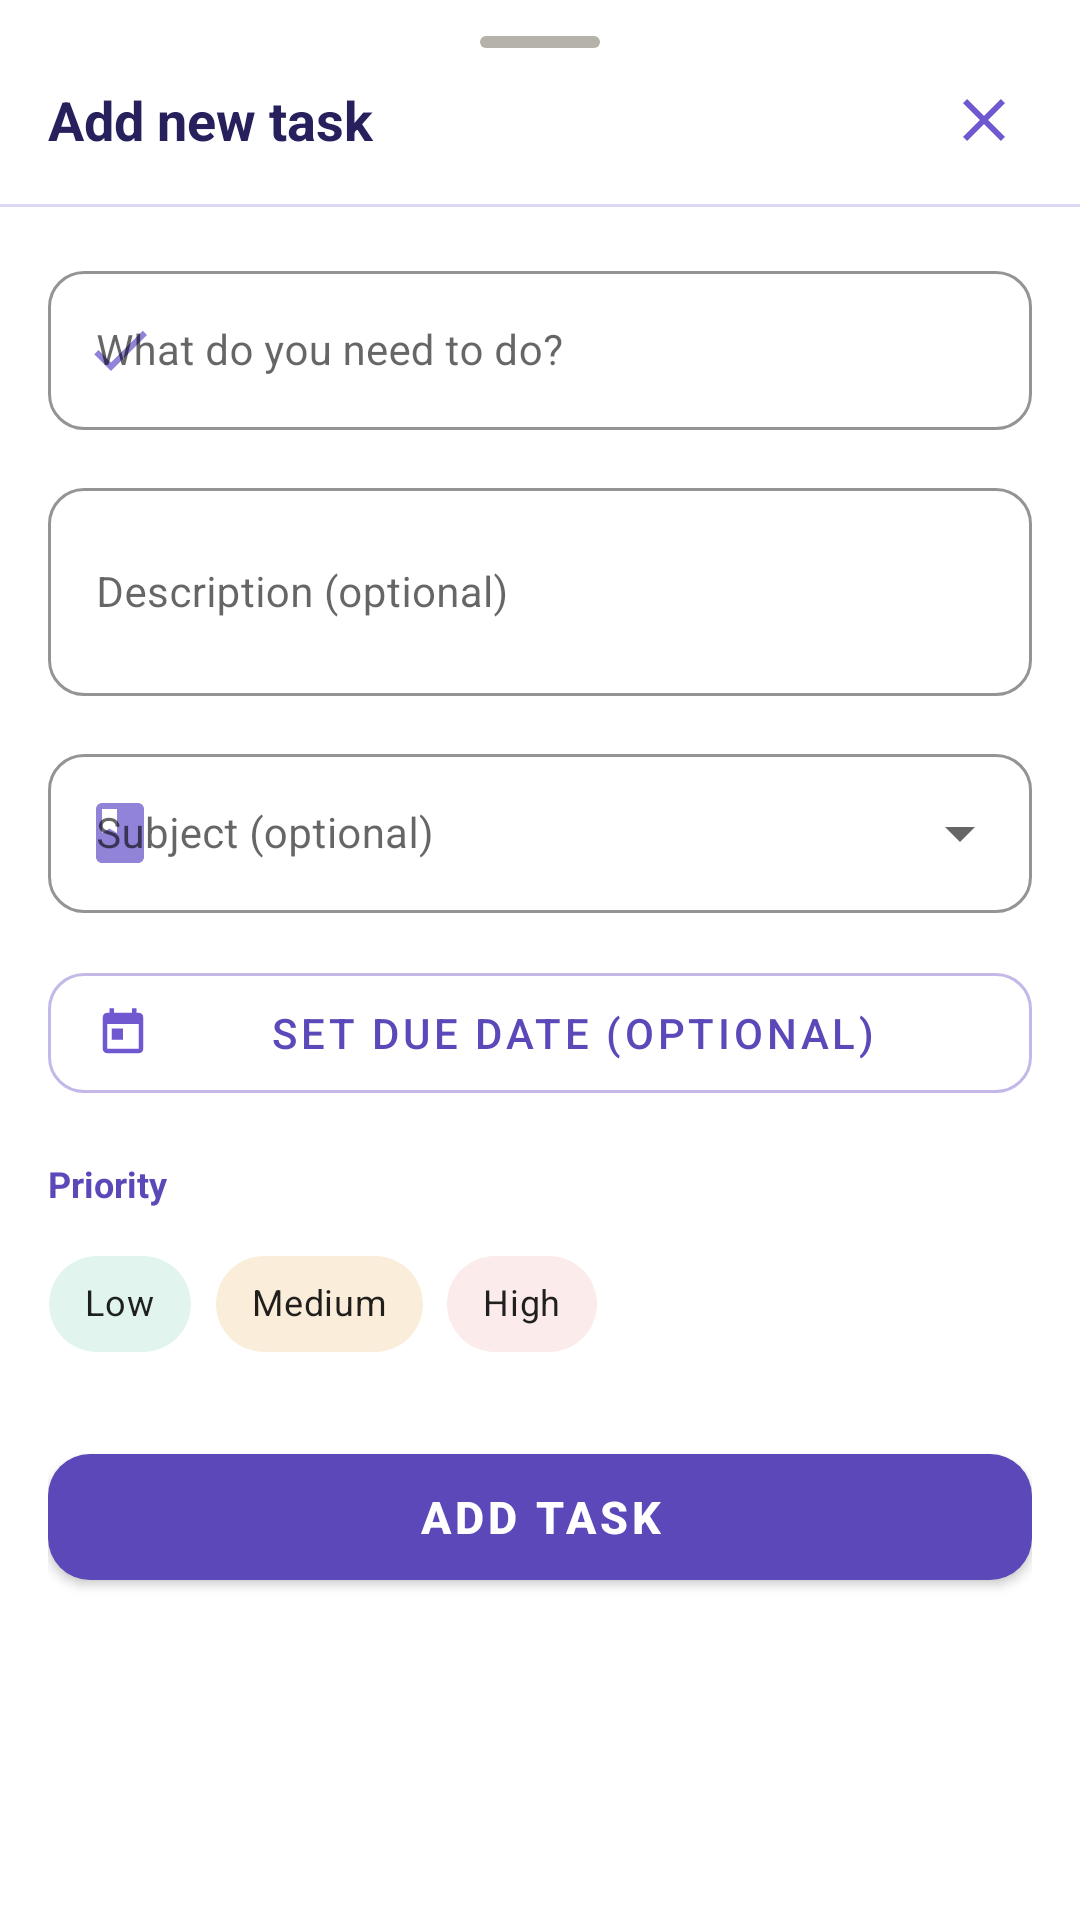

Where to tap for icons on this 1080 × 1920 app screen, as [x,y]:
Close: [984,120]
